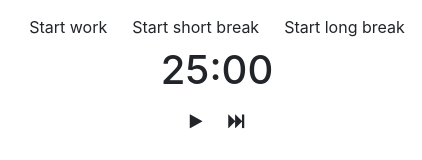
Test: Stops the timer after running to zero
Click the button with id "startWork": (68, 27) 16,8 -> 120,46
Wait 1501000 ms
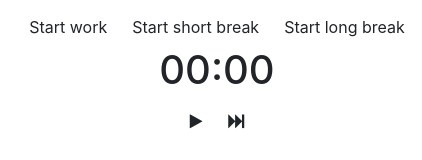
Expected: the heading with id "timer" reads "00:00", 159,45 -> 275,94
